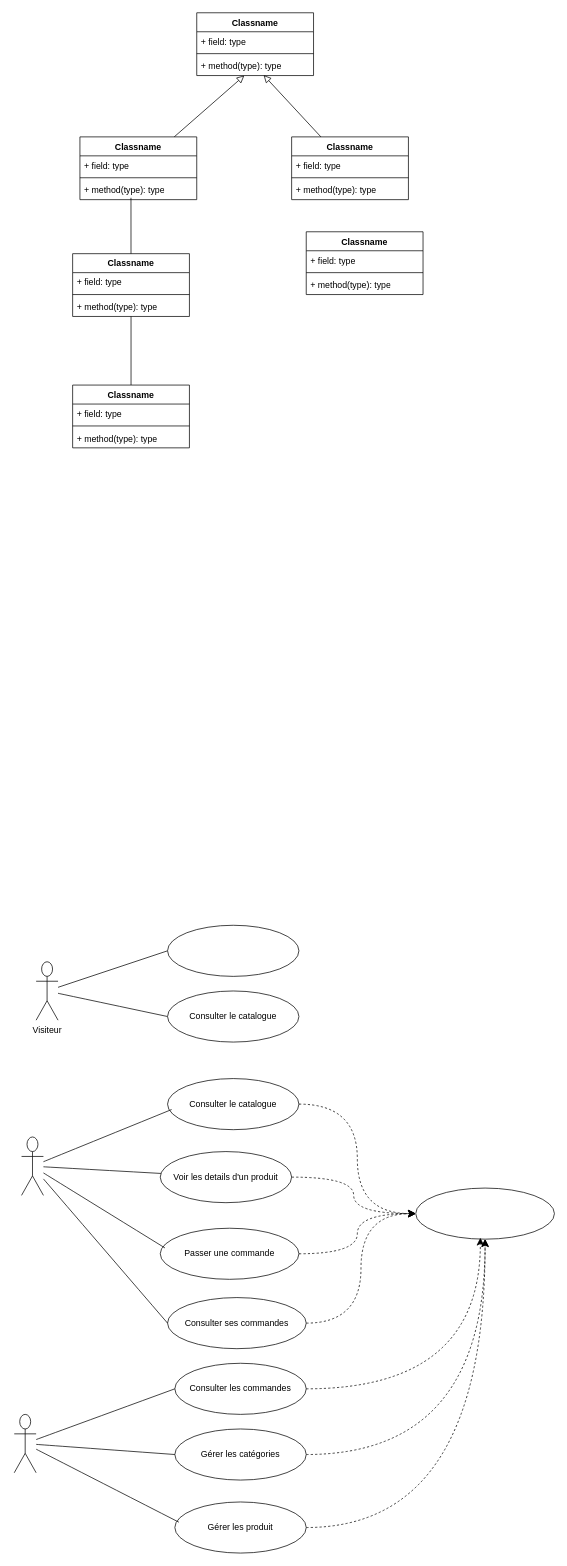
This 567x1566 diagram has some shape labels left out. The shapes that lost their labels are listed below. From the top down, each one's centre as x and y in pixels, then its label:
At point (233, 950): "S'inscrire".
At point (32, 1165): "Client".
At point (484, 1213): "Authentification".
At point (25, 1443): "Admin".
